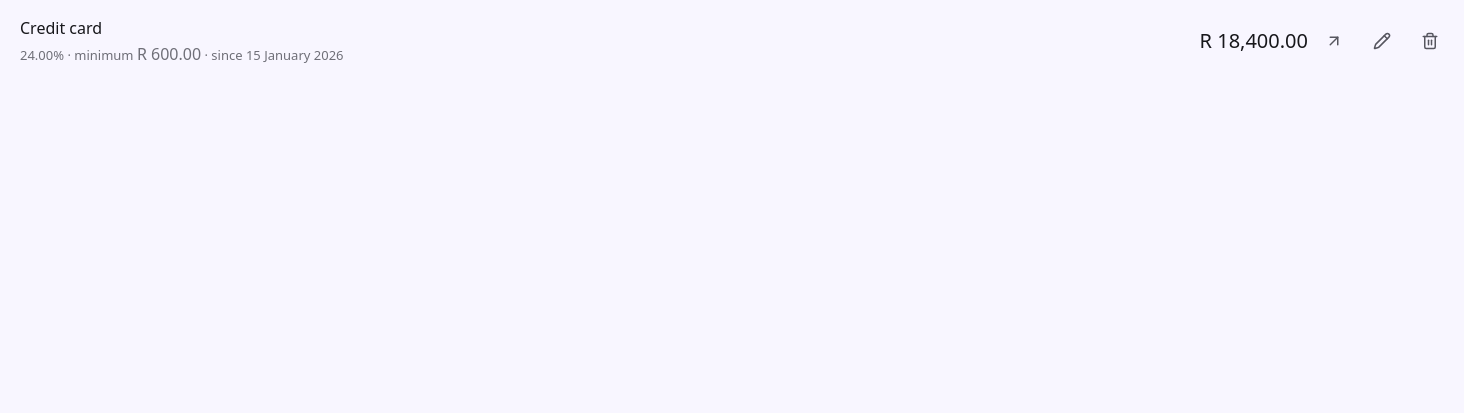
Test: DebtRow › opens the editor when the row is clicked
Expected: the button "Save changes" is not shown
Click the button with aria-label "Edit Credit card": (61,28) x1=12 y1=12 x2=1192 y2=70
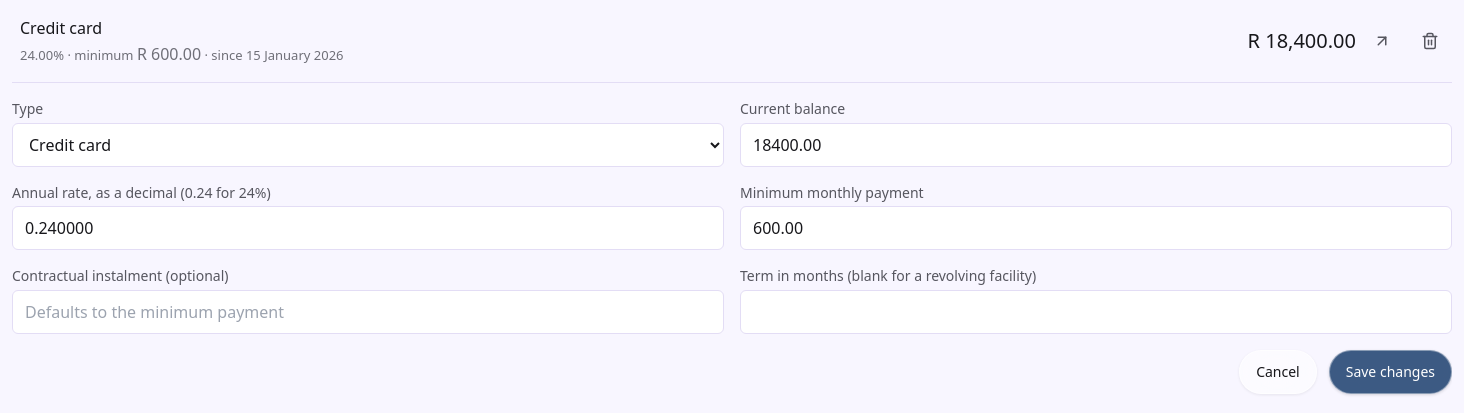
Result: the button "Save changes" is shown at x1=1329 y1=350 x2=1452 y2=394
